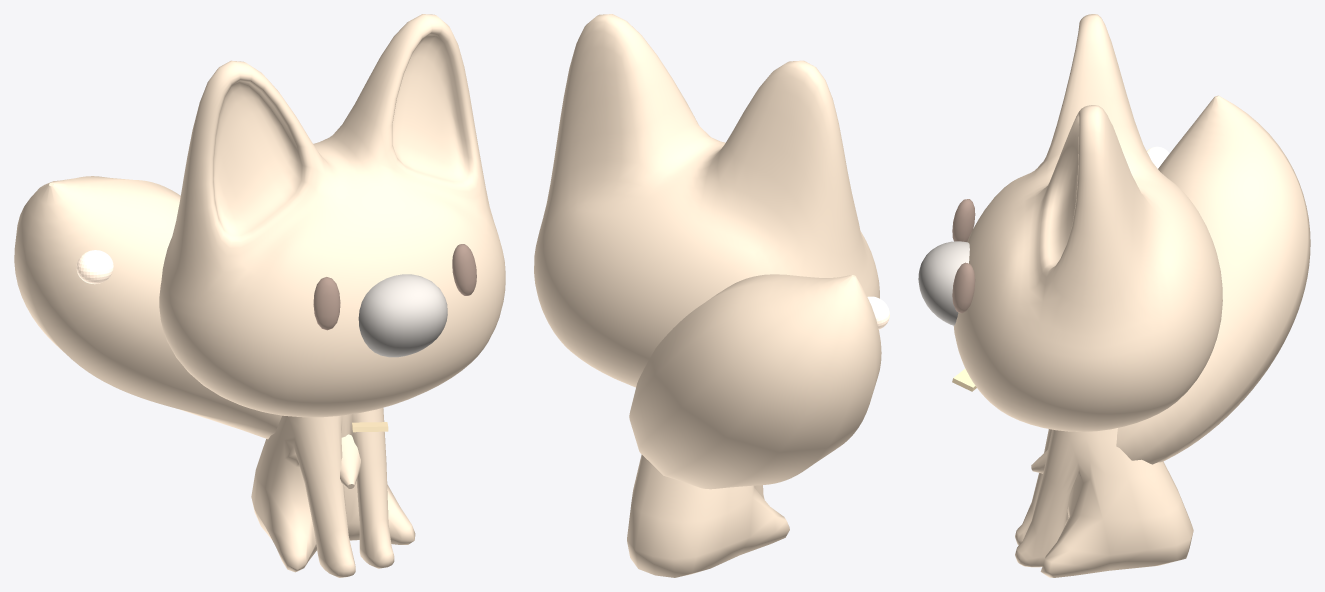
File: fox-base-v10-cream-toy.glb
3 views of the same model, side by side, from view 1: azimuth 30°, elevation 25°; view 2: azimuth 150°, elevation 25°; view 3: azimuth 270°, elevation 25° (orthographic). The views are drawn at different scales.
Parts seen in each view (by area): view 1: FoxBase_Head, FoxBase_Tail, FoxBase_Body, FoxBase_Muzzle, FoxBase_EyeRight, FoxBase_EyeLeft, FoxBase_TailTip; view 2: FoxBase_Head, FoxBase_Tail, FoxBase_Body; view 3: FoxBase_Head, FoxBase_Tail, FoxBase_Body, FoxBase_Muzzle, FoxBase_EyeLeft, FoxBase_EyeRight.
Boxes of the visible parts, <box> form: FoxBase_Head: <box>159,14,505,417</box>; FoxBase_Tail: <box>14,176,360,488</box>; FoxBase_Body: <box>251,408,415,577</box>; FoxBase_Muzzle: <box>358,274,447,357</box>; FoxBase_EyeRight: <box>313,277,340,330</box>; FoxBase_EyeLeft: <box>452,244,476,295</box>; FoxBase_TailTip: <box>76,250,113,284</box>; FoxBase_Head: <box>534,14,879,387</box>; FoxBase_Tail: <box>629,274,881,489</box>; FoxBase_Body: <box>627,454,789,577</box>; FoxBase_Head: <box>953,14,1222,431</box>; FoxBase_Tail: <box>1031,95,1310,473</box>; FoxBase_Body: <box>1015,428,1193,577</box>; FoxBase_Muzzle: <box>918,241,969,325</box>; FoxBase_EyeLeft: <box>952,262,975,313</box>; FoxBase_EyeRight: <box>952,199,975,241</box>.
Size of the model in its own units: 0.0997 by 0.123 by 0.0883.
